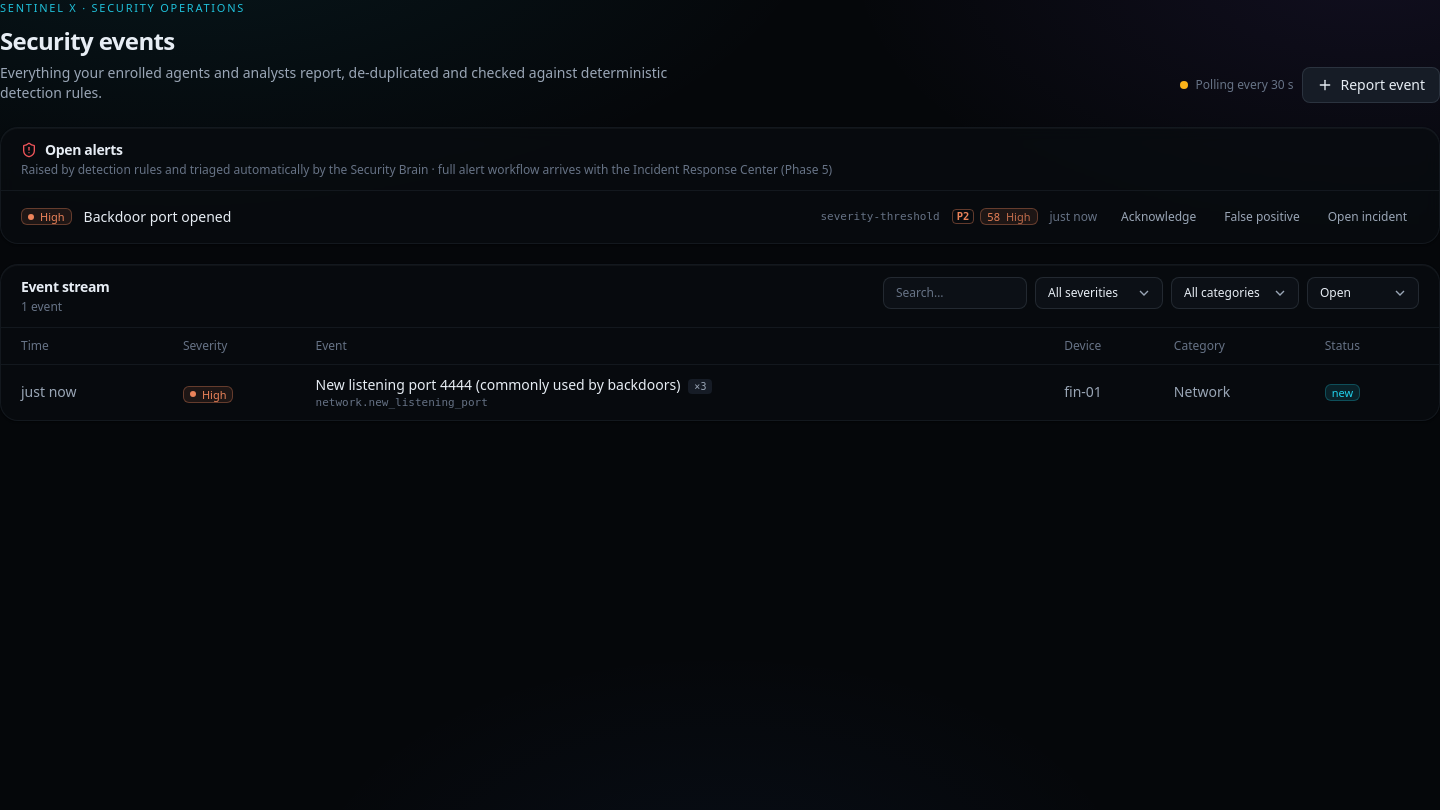
Scenario: EventsPage › shows events, folded duplicates and open alerts, and opens the detail view
Expected: the text "New listening port 4444 (commonly used by backdoors)" is shown, 316,374 -> 680,394
Expected: the text "×3" is shown, 688,378 -> 712,394
Click the row named "Open event New listening port" at {"x": 49, "y": 392}, box 1,364 -> 1439,420
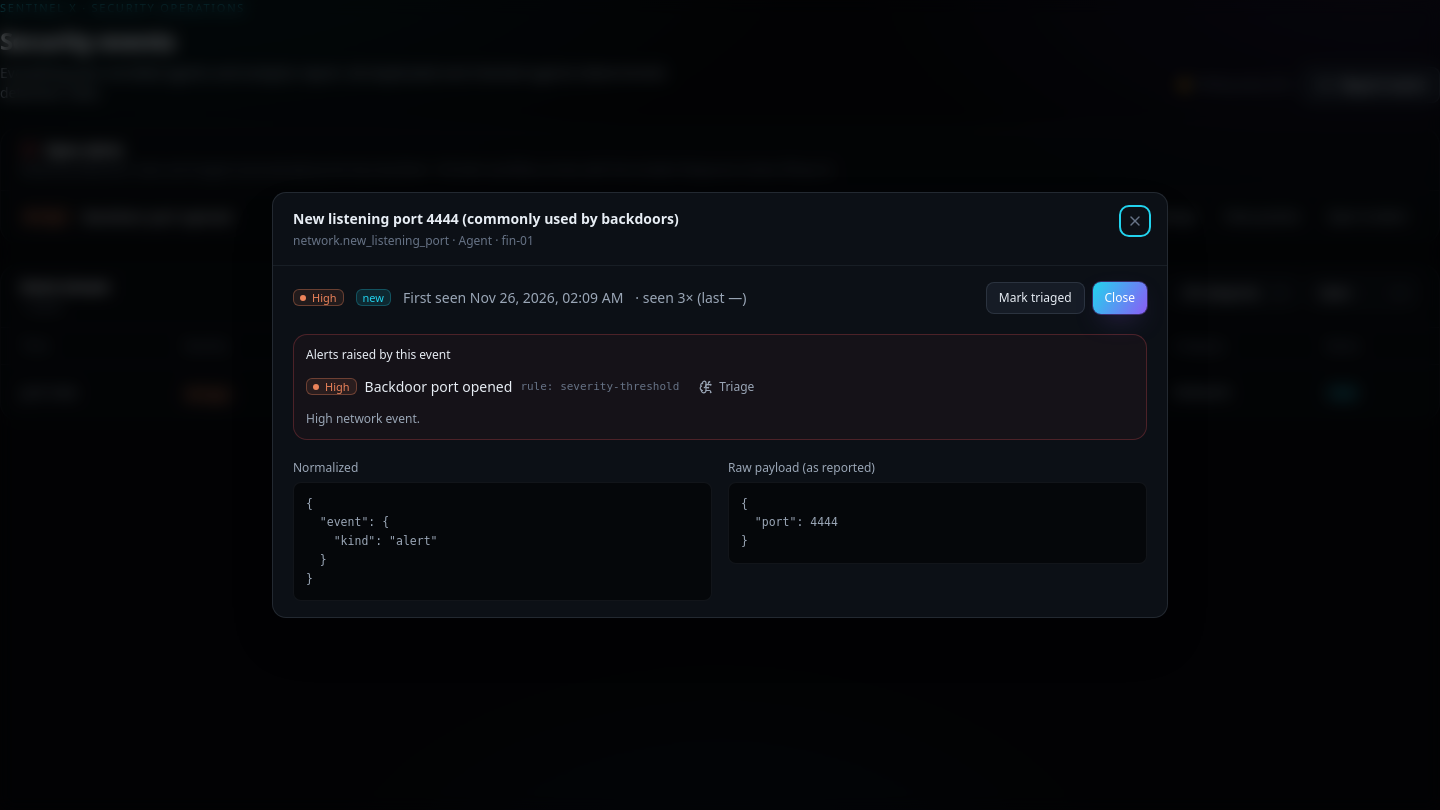
Expected: the heading "Alerts raised by this event" is shown, 306,346 -> 450,363
Expected: the text "{ \"port\": 4444 }" is shown, 728,482 -> 1147,564
Expected: the button "Mark triaged" is shown, 986,282 -> 1085,314
